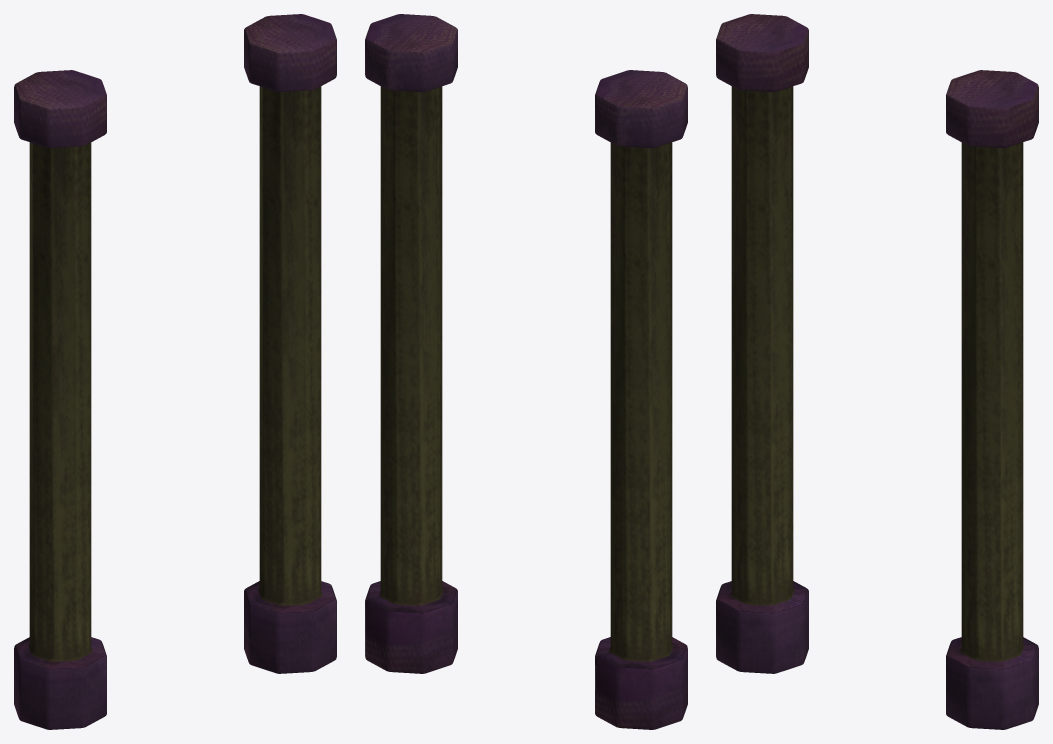
File: MANOR_WINDOW-PILLAR_1.obj
The picture shows the model from 3 angles, left to right: view 1: azimuth 30°, elevation 25°; view 2: azimuth 150°, elevation 25°; view 3: azimuth 330°, elevation 25°; orthographic projection.
Visible parts, largest first — view 1: MANOR_WINDOW-PILLAR_1.002; view 2: MANOR_WINDOW-PILLAR_1.002; view 3: MANOR_WINDOW-PILLAR_1.002.
Part boxes in pixels (x1,y1,x2,y2): MANOR_WINDOW-PILLAR_1.002: [14, 14, 336, 729]; MANOR_WINDOW-PILLAR_1.002: [365, 14, 687, 729]; MANOR_WINDOW-PILLAR_1.002: [716, 14, 1038, 729].
Bounding box in the file's own units: 1.57 × 3 × 0.4135.
